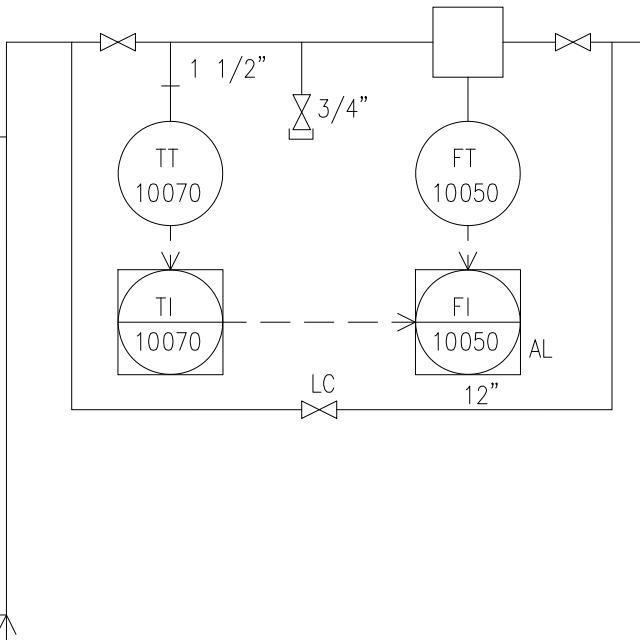EC: (281, 67, 320, 143)
GV: (549, 27, 595, 53), (290, 88, 315, 134), (297, 395, 340, 421), (97, 32, 139, 52)
